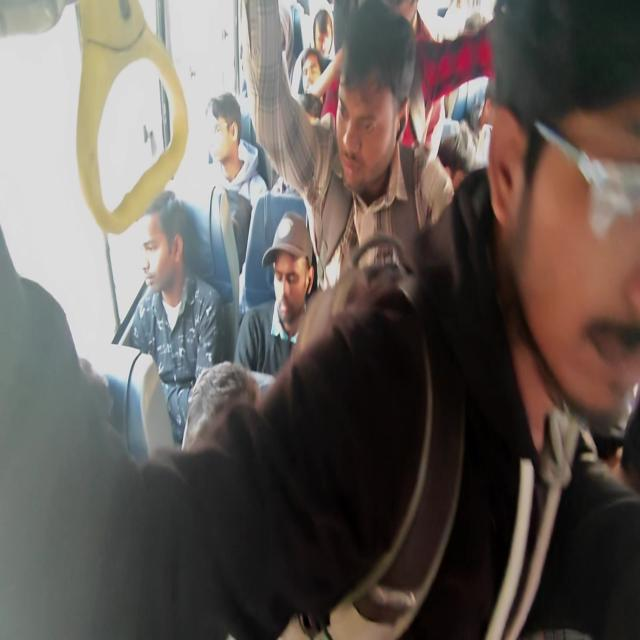person: (493, 14, 640, 402), (338, 39, 396, 188), (273, 216, 327, 322), (142, 182, 181, 313), (206, 104, 247, 178), (436, 128, 481, 183), (475, 87, 514, 146), (256, 0, 290, 65), (462, 0, 487, 75), (393, 0, 424, 50), (304, 52, 328, 110), (314, 18, 336, 54), (169, 140, 177, 140)
